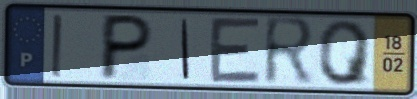E: (208, 15, 264, 86)
I: (49, 12, 66, 80), (179, 17, 192, 82)
P: (96, 11, 157, 82)
Q: (316, 18, 375, 88)
R: (262, 14, 319, 89)
